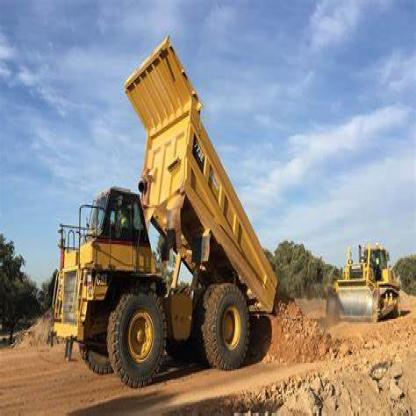dump_truck: (45, 32, 277, 386)
